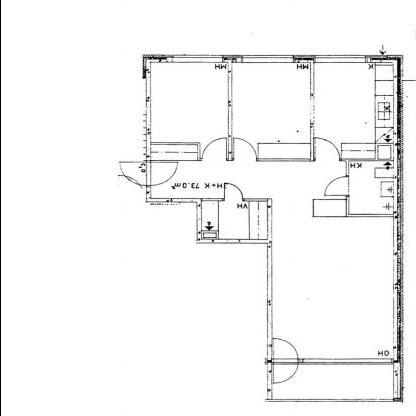door: (111, 159, 180, 189), (269, 336, 299, 388), (229, 135, 258, 166), (311, 134, 343, 162), (198, 136, 228, 163), (319, 174, 351, 198), (149, 161, 177, 187), (221, 182, 245, 204)
window: (164, 52, 225, 66), (239, 51, 294, 65), (312, 52, 368, 65)
